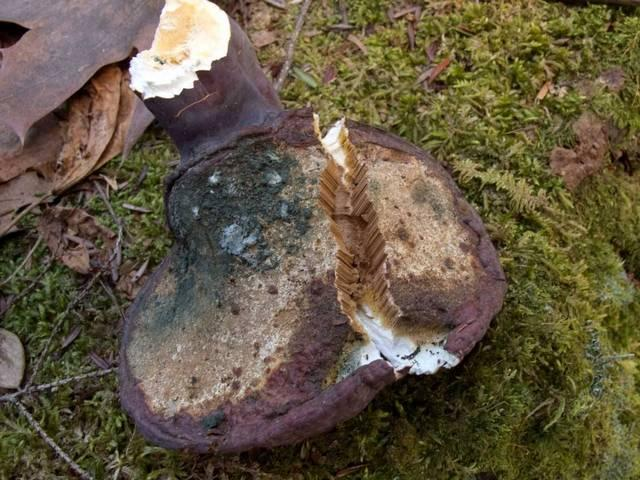Non-edible Mushroom: (114, 0, 508, 456)
